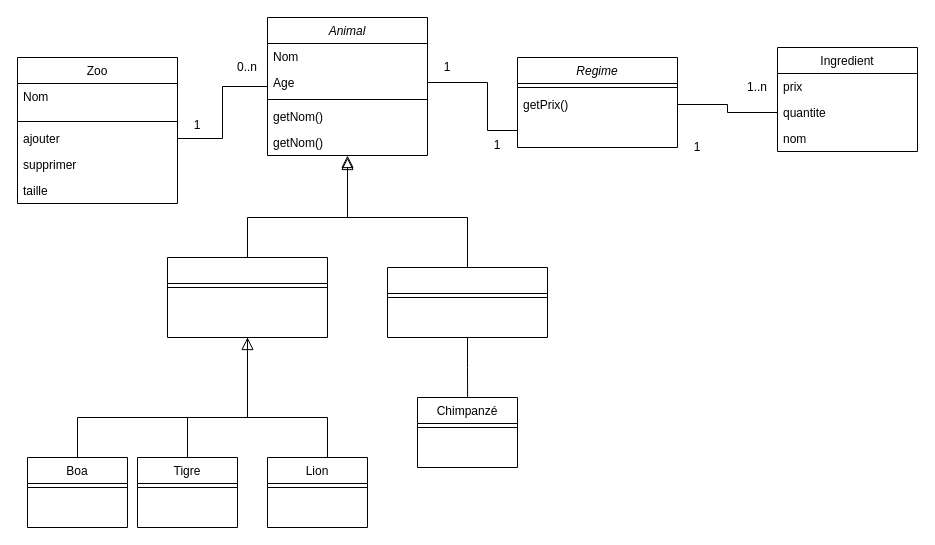
The diagram is 935 pixels wide and 545 high, and some of its shapes have lost their labels. Each missing label, with the centre of its shape:
Carnivore: point 247,297
Végétarien: point 467,302
